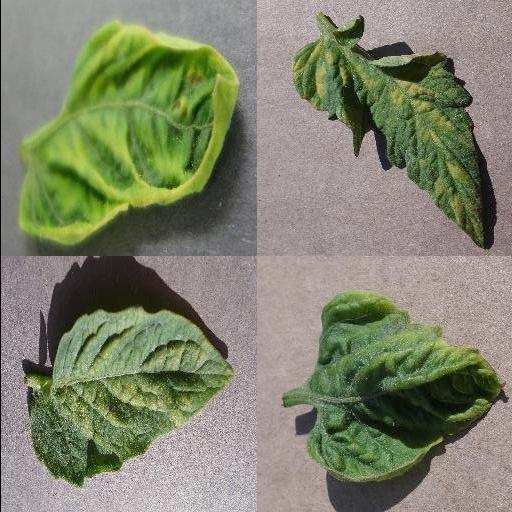Leaf Mold: (288, 15, 486, 247)
Spider Mites: (26, 308, 236, 488)
Yellow Leaf Curl Virus: (19, 22, 239, 246), (308, 291, 506, 483)
